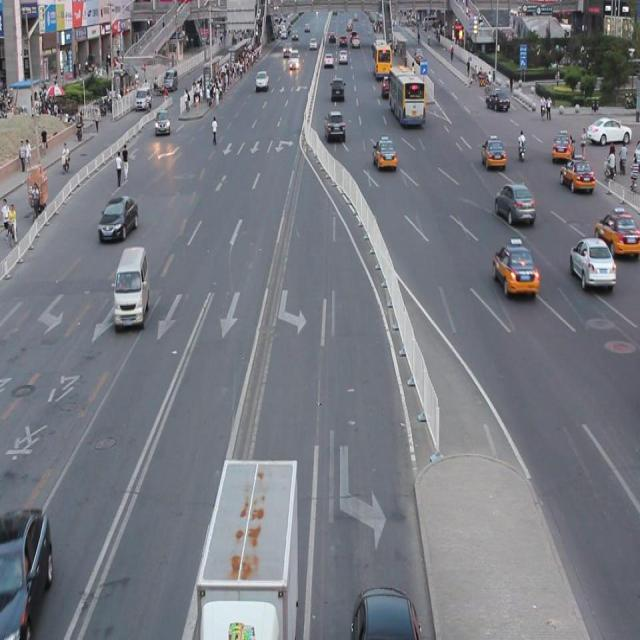bus: (194, 456, 298, 640)
car: (1, 505, 53, 640), (351, 584, 420, 640), (492, 240, 538, 295), (568, 234, 614, 286), (594, 207, 640, 254), (98, 194, 139, 241), (493, 181, 535, 223), (558, 155, 593, 191)
truck: (114, 245, 150, 325)
